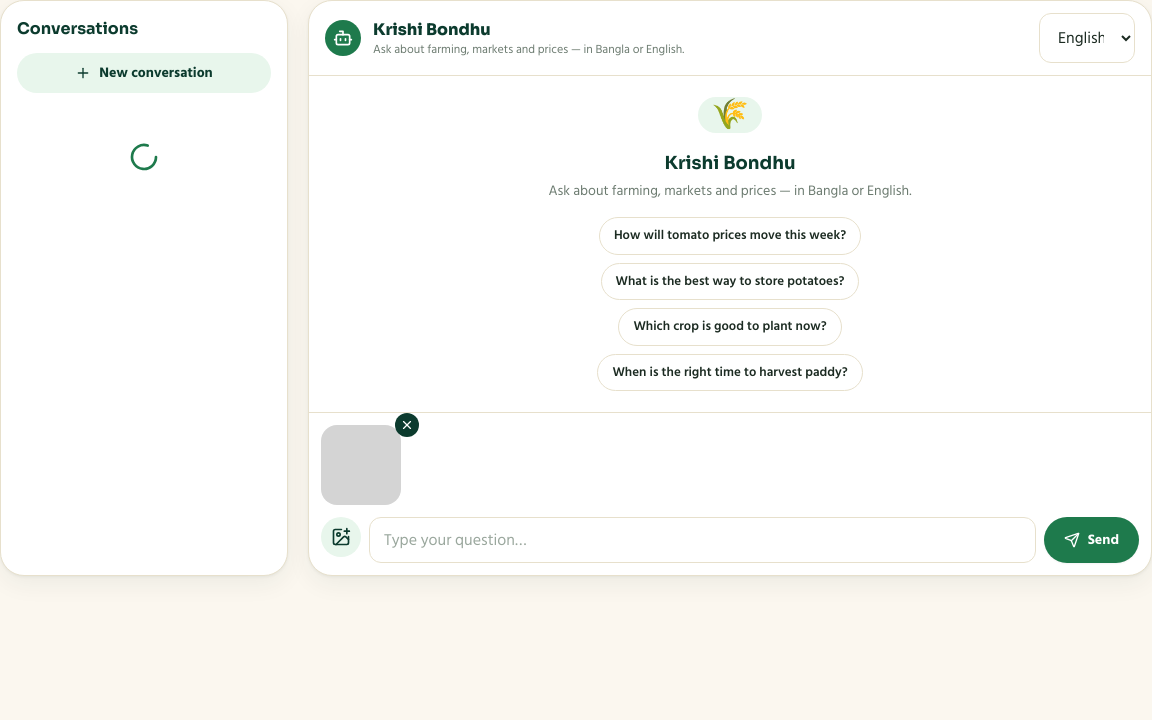
Test case: AssistantPage voice › shows the speaker button once voices arrive via voiceschanged
The width and height of the screenshot is (1152, 720).
Earlier steps of the test are not shown.
Click the button "Send": [1091, 540] box [1044,517,1139,563]
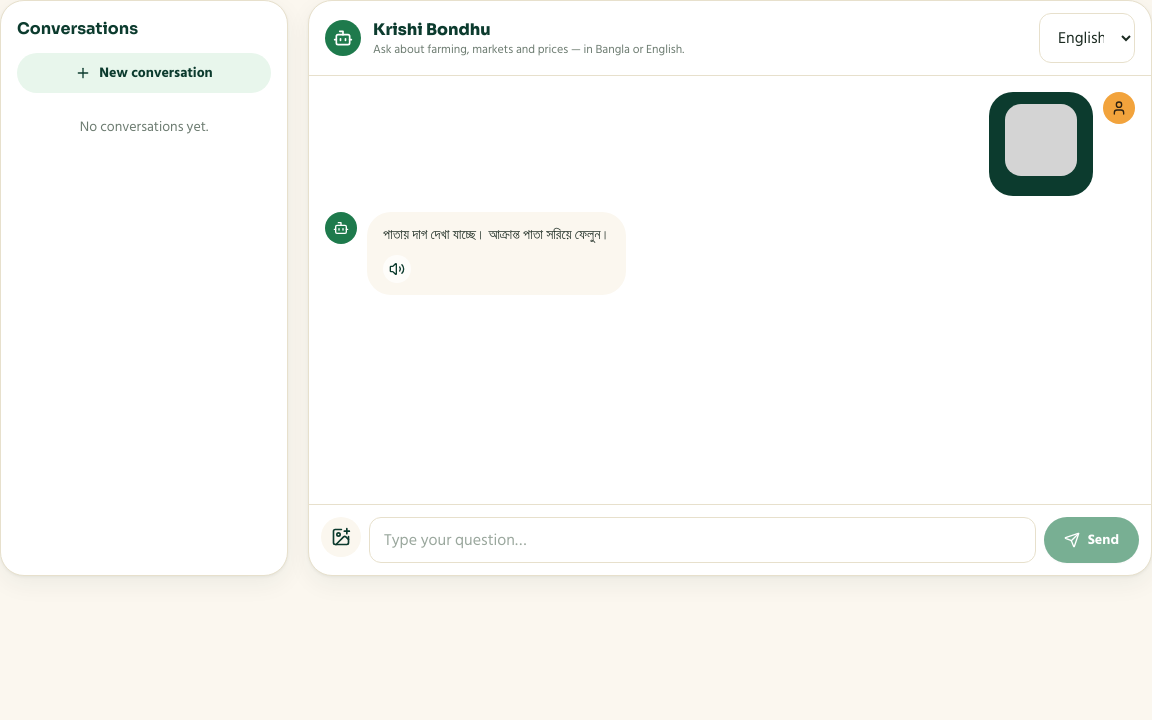
Expected: the text "পাতায় দাগ দেখা যাচ্ছে। আক্রান্ত পাতা সরিয়ে ফেলুন।" is shown, [383,224,610,247]
Expected: the button named "Read aloud" is shown, [383,255,411,283]
